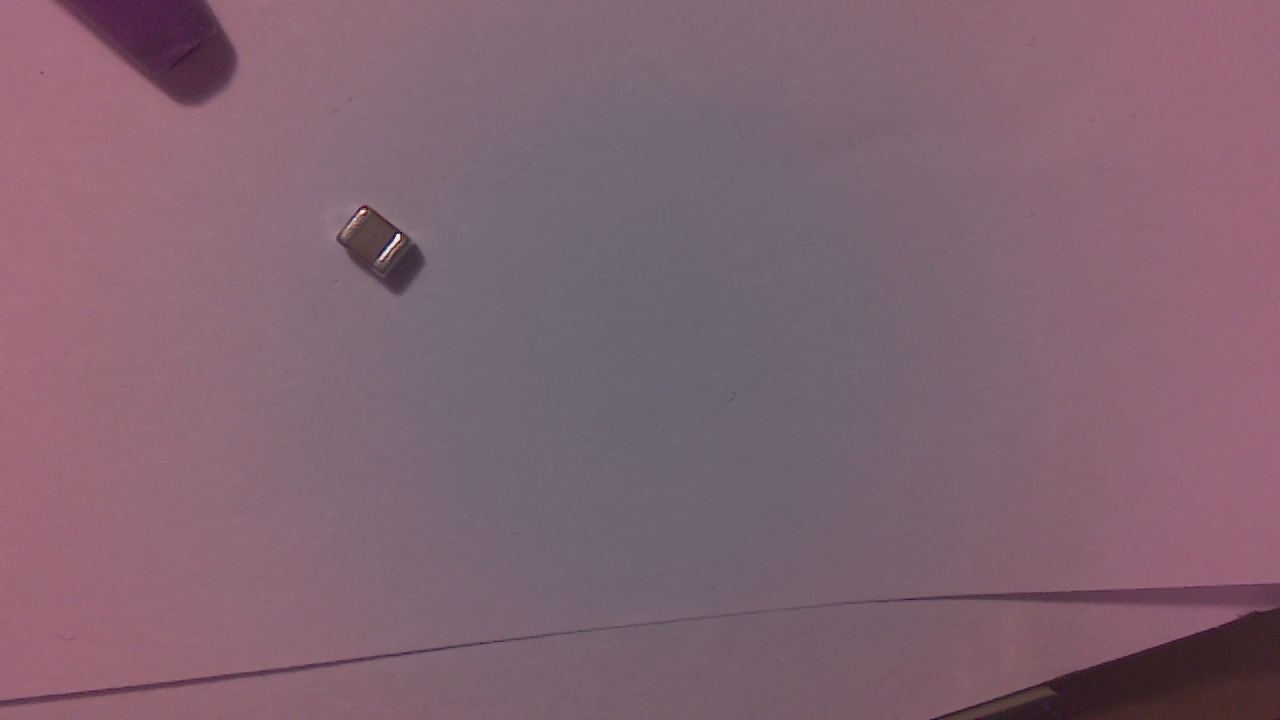Condensator: (343, 209, 426, 292)
